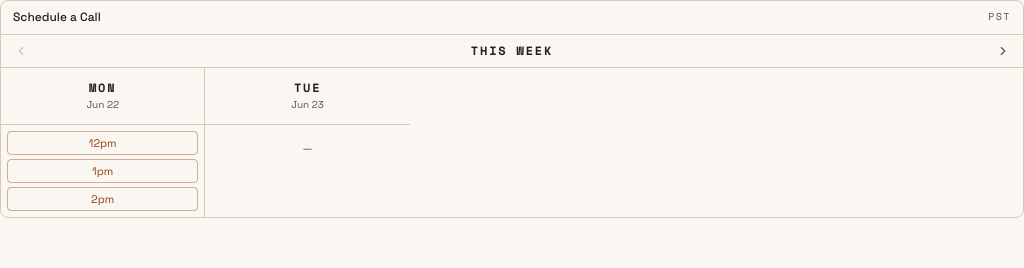
Test case: SchedulerCard › falls back to LinkedIn when the popup is blocked
Click the link with aria-label "Book Monday at 12pm" at (103, 143), box [7, 131, 198, 155]
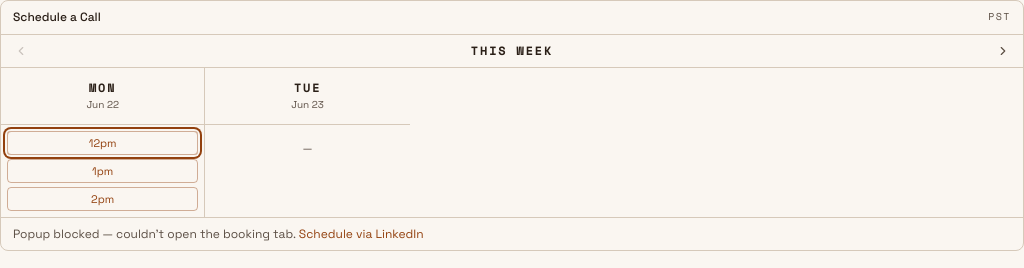
Check: the text "Popup blocked" is shown, box [13, 226, 296, 242]
Check: the link "Schedule via LinkedIn" is shown, box [299, 226, 424, 242]
